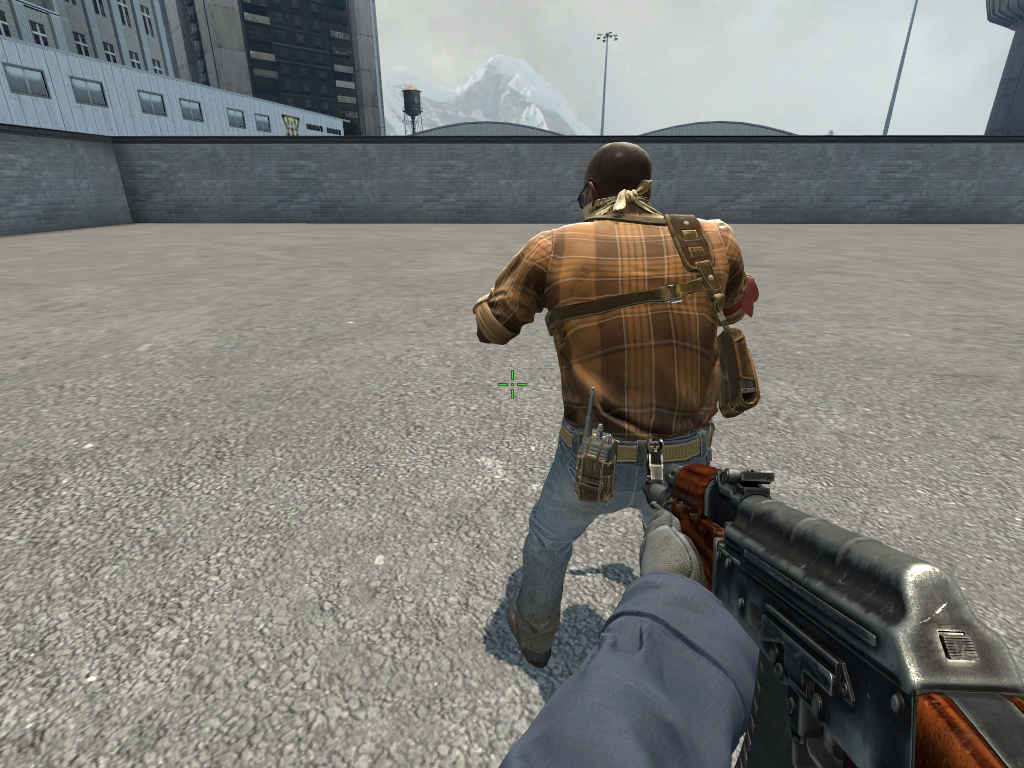tr head: (575, 138, 658, 227)
